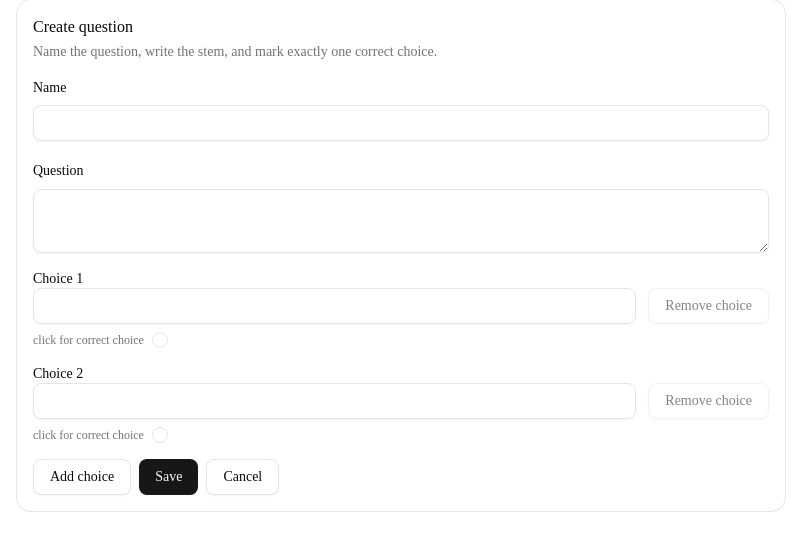
McqForm › 400 details are shown on matching fields
Type "Photosynthesis" into the field labelled "Name" at (401, 123), box [33, 105, 769, 141]
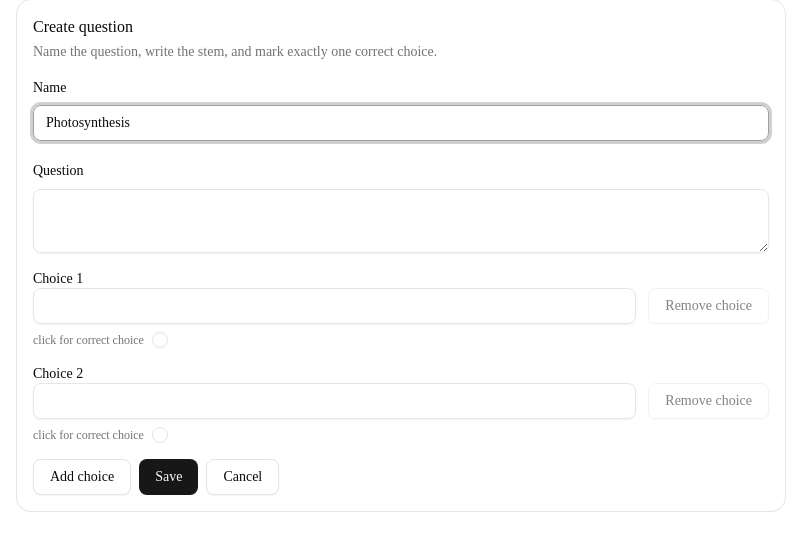
Type "What gas do plants release during photosynthesis?" into the text box labelled "Question" at (401, 220), box [33, 188, 769, 252]
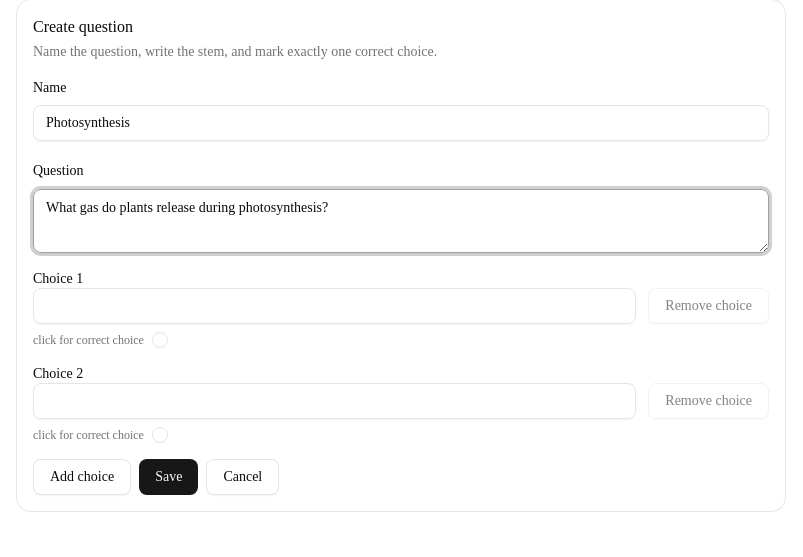
Type "Oxygen" into the field labelled "Choice 1" at (335, 306), box [33, 288, 636, 324]
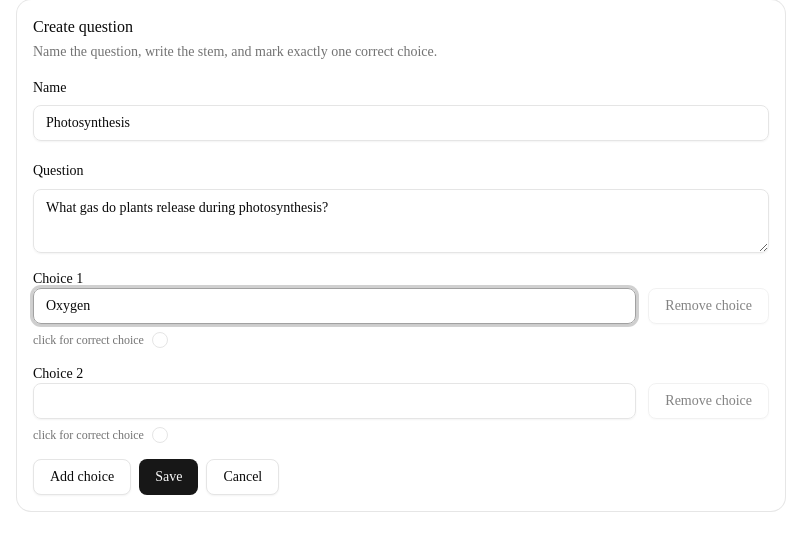
Type "Nitrogen" into the field labelled "Choice 2" at (335, 401), box [33, 383, 636, 419]
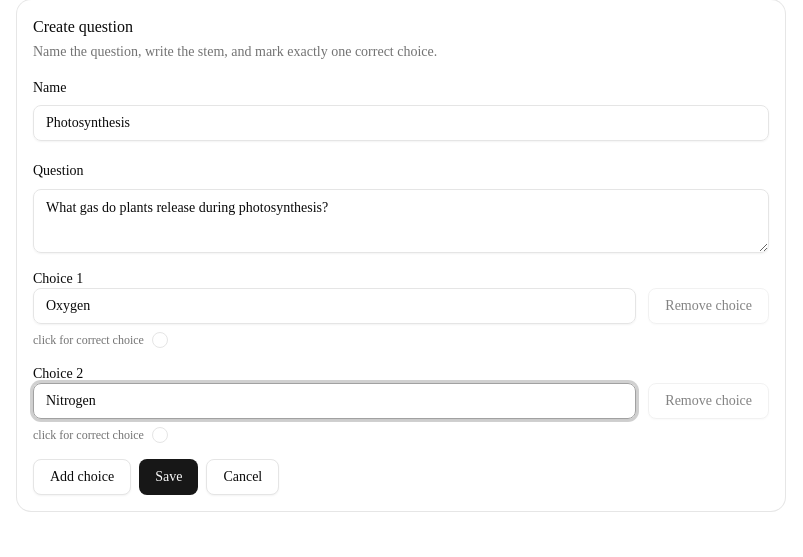
Click the radio button named "choice 1 is correct" at (160, 340), box [152, 332, 168, 348]
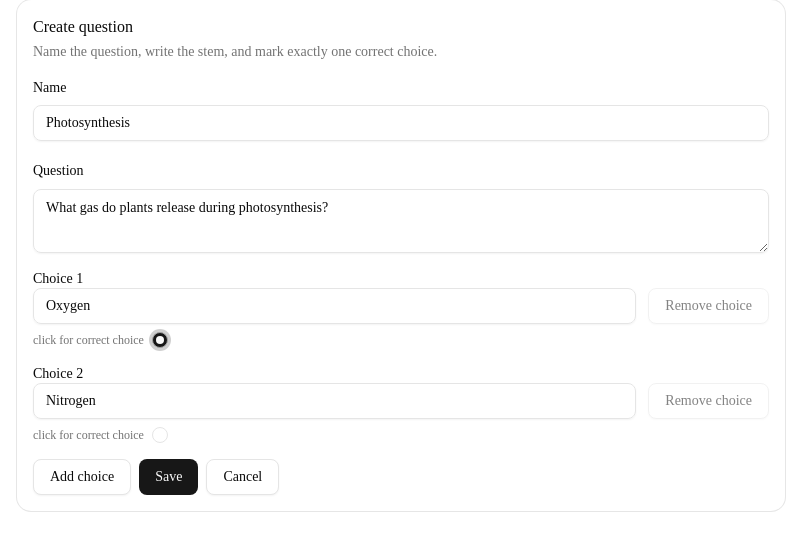
Click the button "Save" at (169, 477), box [139, 459, 198, 495]
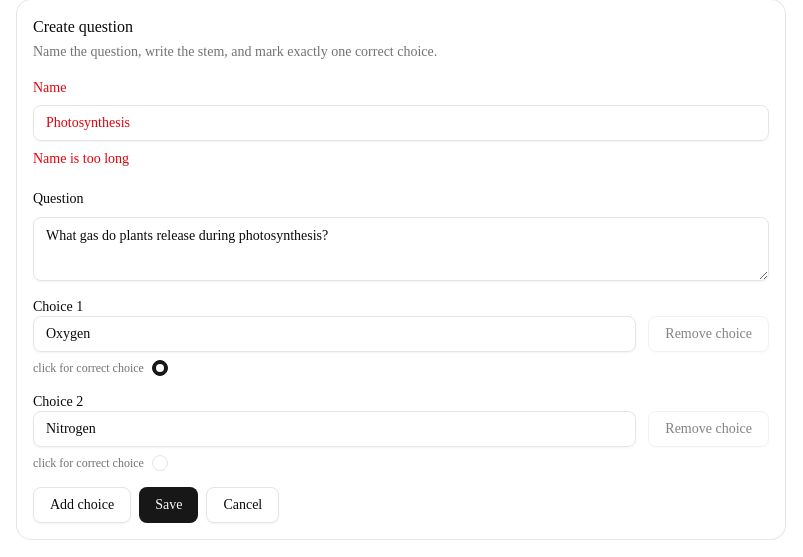
Result: the text "Name is too long" is shown at [33, 151, 129, 166]
